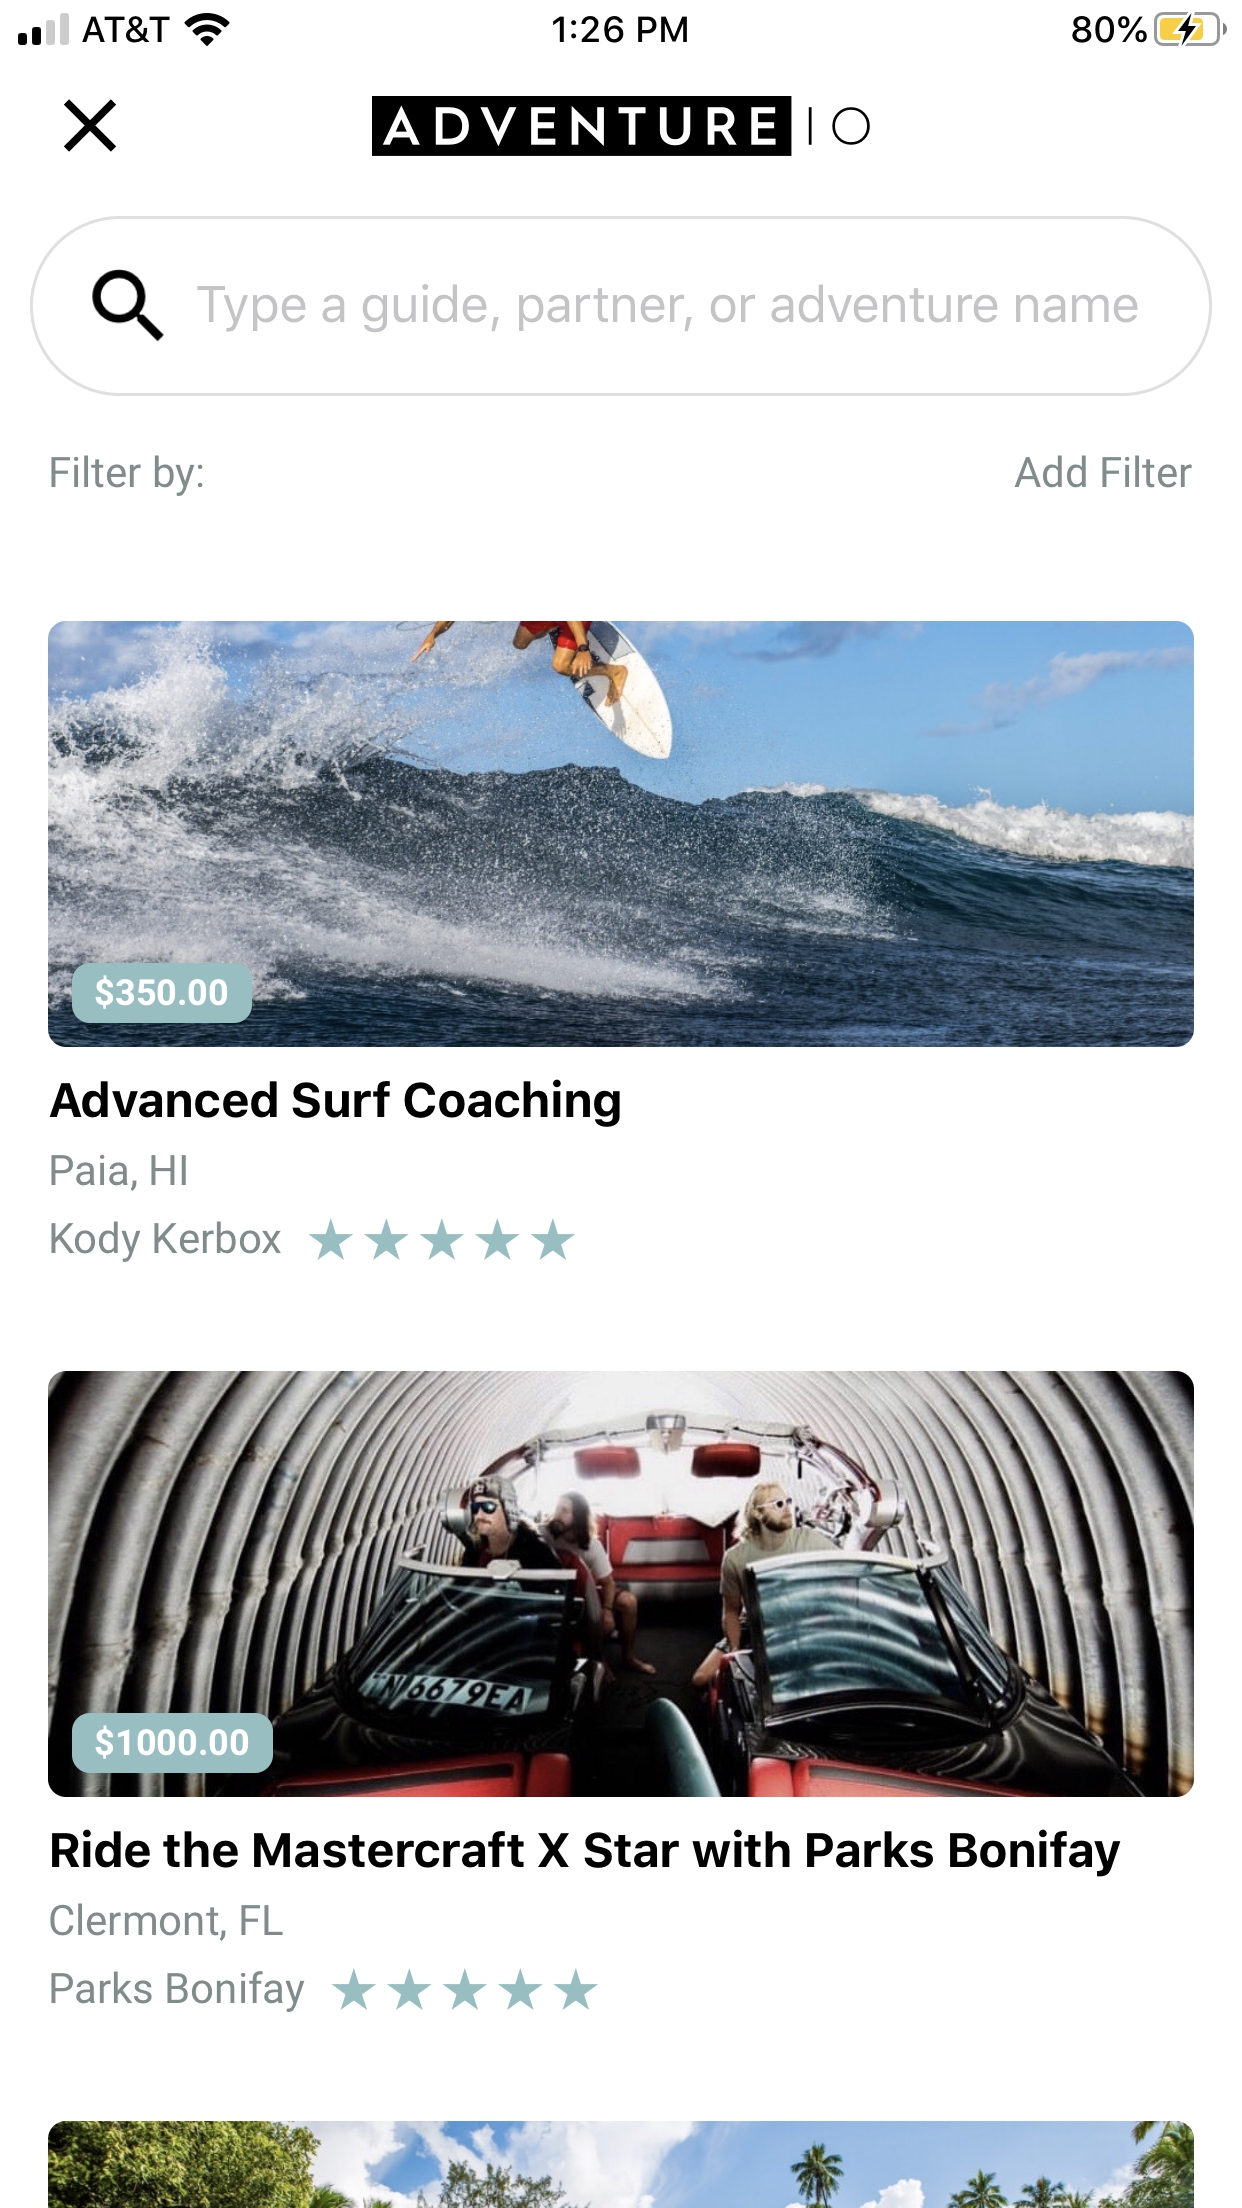EditText: (30, 217, 1213, 397)
Icon: (332, 1968, 597, 2009), (309, 1219, 575, 1260), (93, 270, 165, 343), (64, 100, 117, 155)
Image: (49, 1371, 1193, 1797), (49, 622, 1193, 1046), (49, 2120, 1193, 2208), (373, 97, 870, 158)
Text: (52, 1829, 1121, 1877), (197, 285, 1137, 334), (50, 1080, 622, 1128), (52, 1970, 305, 2012), (52, 1221, 281, 1263), (52, 1902, 284, 1941), (52, 455, 205, 497), (1015, 456, 1192, 488), (52, 1154, 188, 1192)
TextButton: (71, 1714, 274, 1773), (73, 964, 253, 1024)
UpperTaskBar: (2, 2, 1242, 49)
